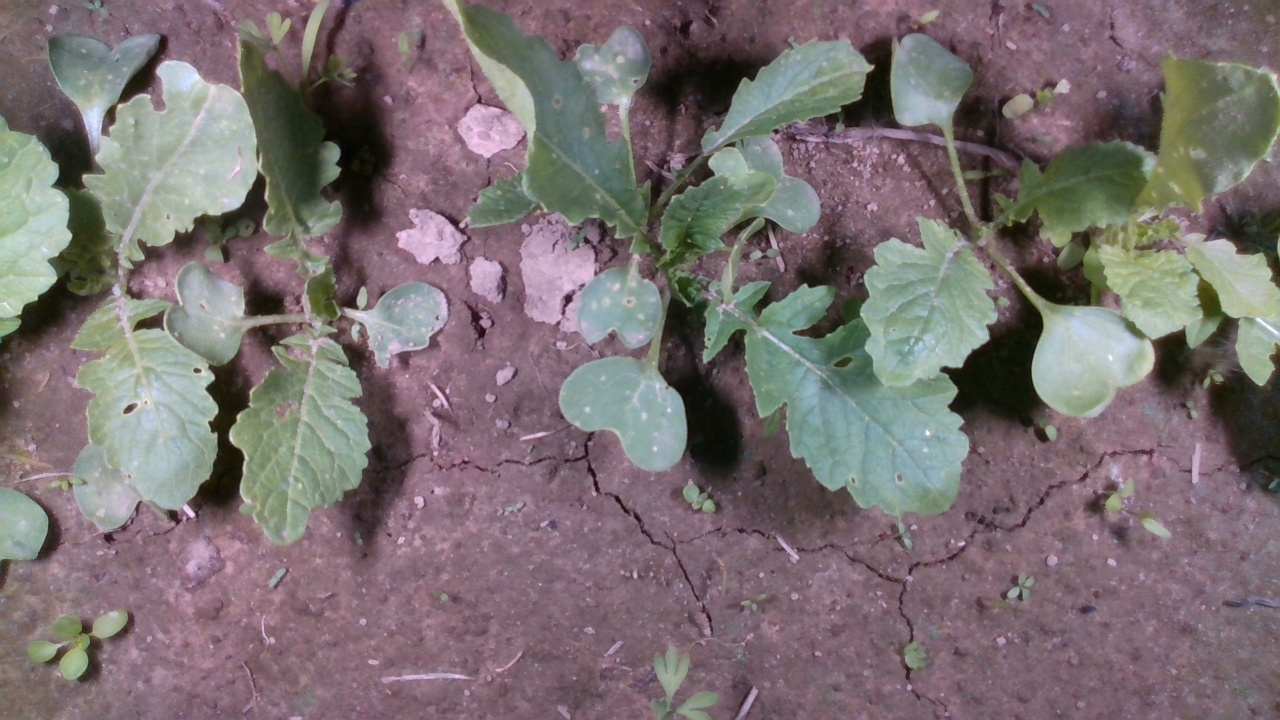weed: (19, 606, 133, 686)
